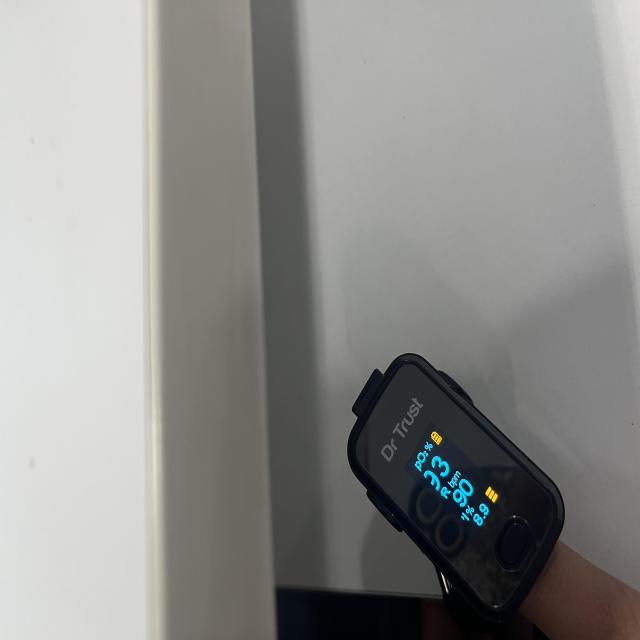bp: (346, 355, 566, 630)
